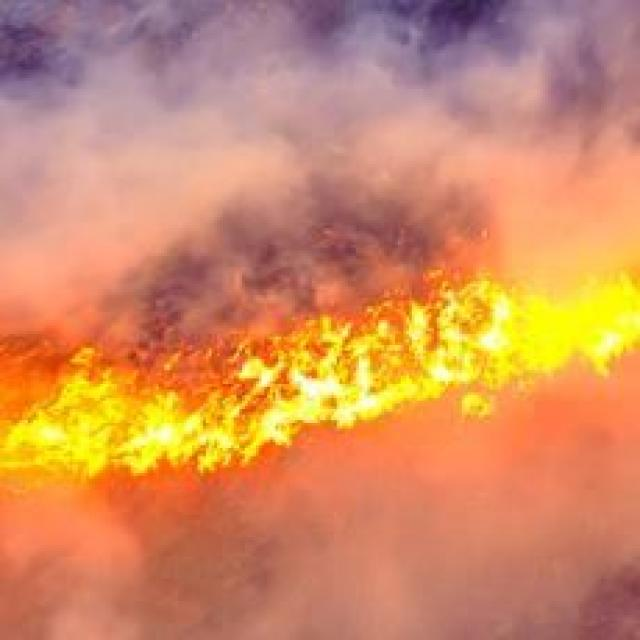Fire: (17, 267, 640, 484)
Smoke: (0, 0, 640, 272), (0, 417, 623, 639)
